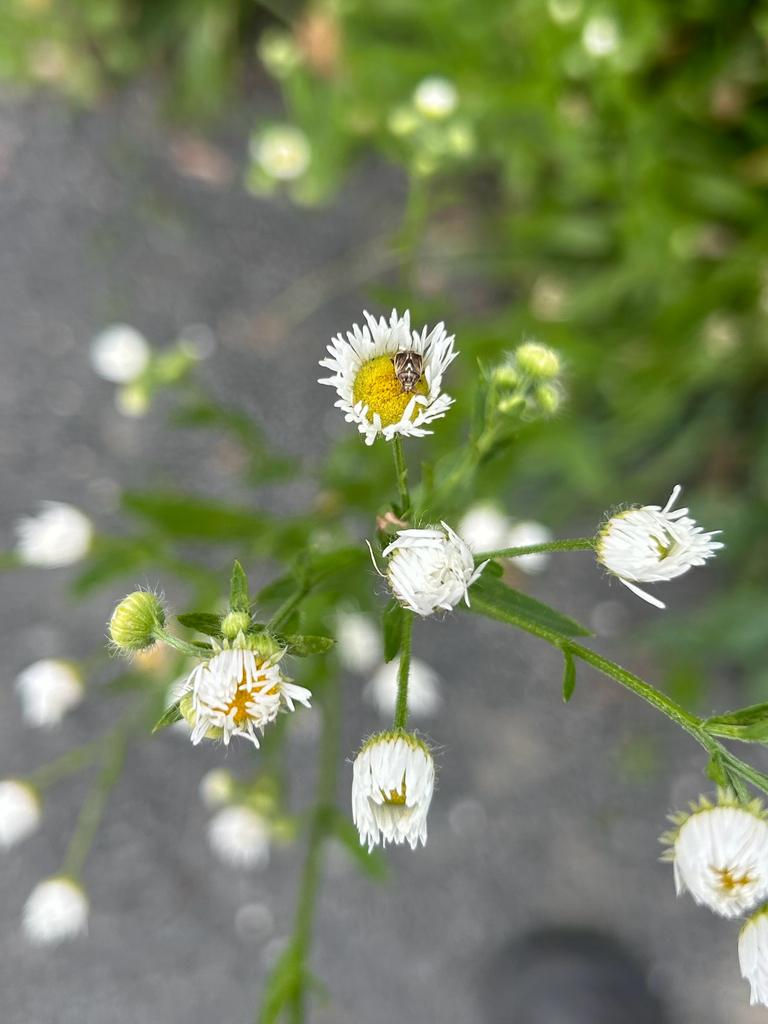plant_bugs: (379, 332, 434, 409)
